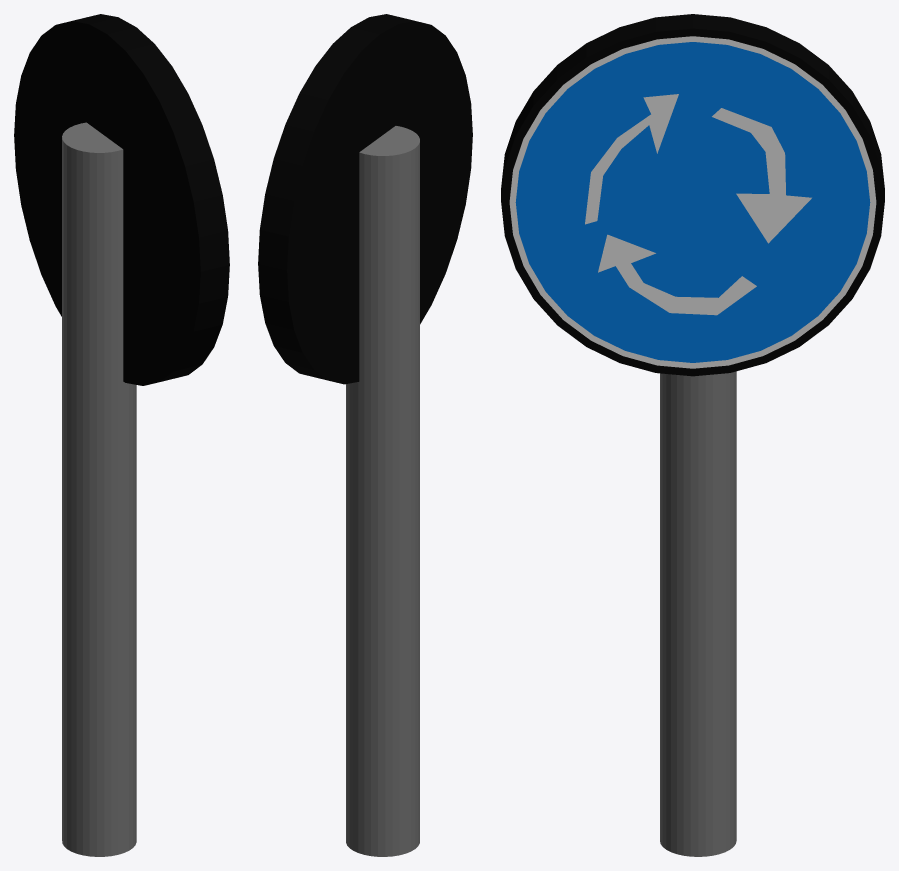
The model's file is mini_roundabout.fbx.
The picture shows the model from 3 angles, left to right: view 1: azimuth 30°, elevation 25°; view 2: azimuth 150°, elevation 25°; view 3: azimuth 270°, elevation 25°; orthographic projection. The views are drawn at different scales.
Parts seen in each view (by area): view 1: Cylinder, Circle; view 2: Cylinder, Circle; view 3: Circle, Cylinder.
Part boxes in pixels (bbox=[...]): Cylinder: bbox=[62, 122, 136, 856]; Circle: bbox=[14, 14, 229, 385]; Cylinder: bbox=[346, 126, 419, 856]; Circle: bbox=[258, 14, 472, 384]; Circle: bbox=[501, 14, 884, 376]; Cylinder: bbox=[660, 371, 736, 856].
Bounding box in the file's own units: 2.07 × 23.85 × 10.
